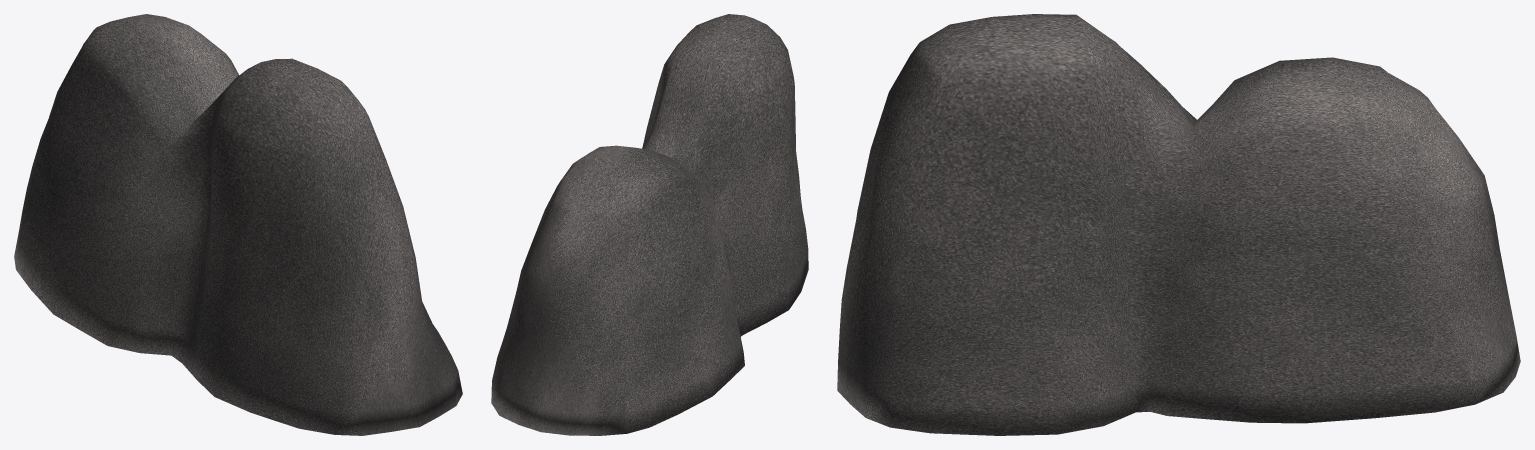
Rendered from iwa03.fbx.
3 views of the same model, side by side, from view 1: azimuth 30°, elevation 25°; view 2: azimuth 150°, elevation 25°; view 3: azimuth 270°, elevation 25° (orthographic). The views are drawn at different scales.
Parts seen in each view (by area): view 1: iwa03; view 2: iwa03; view 3: iwa03.
Boxes of the visible parts, x1,y1,x2,y2 form: iwa03: [14, 14, 462, 435]; iwa03: [491, 14, 808, 435]; iwa03: [837, 14, 1520, 435].
Bounding box in the file's own units: 21.65 × 26.1 × 46.63.
